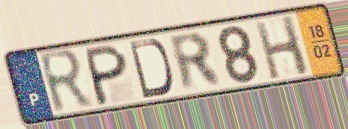8: (216, 24, 261, 85)
D: (127, 37, 175, 101)
H: (252, 13, 312, 82)
P: (84, 41, 129, 108)
R: (35, 46, 97, 118), (165, 30, 226, 94)
